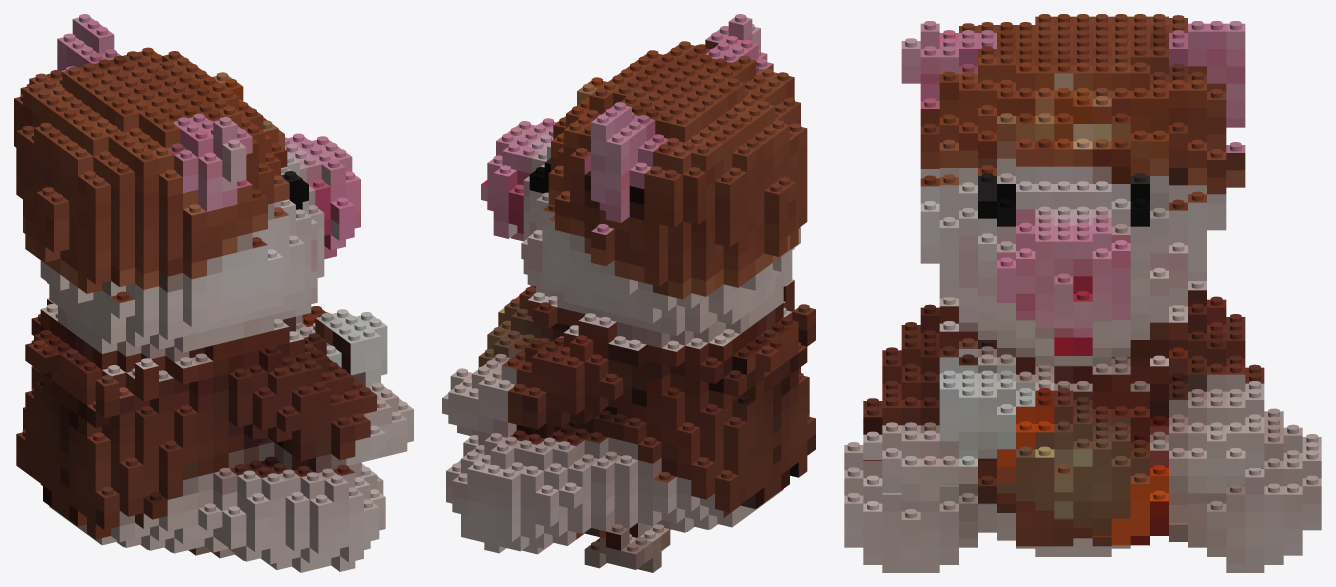
Rendered from lgo.glb.
The picture shows the model from 3 angles, left to right: view 1: azimuth 30°, elevation 25°; view 2: azimuth 150°, elevation 25°; view 3: azimuth 270°, elevation 25°; orthographic projection. The views are drawn at different scales.
Visible parts, largest first — view 1: tripo_node_83886bea-f478-450e-9cd8-8ddfbac46592; view 2: tripo_node_83886bea-f478-450e-9cd8-8ddfbac46592; view 3: tripo_node_83886bea-f478-450e-9cd8-8ddfbac46592.
Part boxes in pixels (<box>): tripo_node_83886bea-f478-450e-9cd8-8ddfbac46592: <box>14,14,413,572</box>; tripo_node_83886bea-f478-450e-9cd8-8ddfbac46592: <box>442,14,815,572</box>; tripo_node_83886bea-f478-450e-9cd8-8ddfbac46592: <box>844,14,1321,572</box>.
Bounding box in the file's own units: 0.6576 × 0.9618 × 0.822.
Materials: 1 (1 with a texture image).
